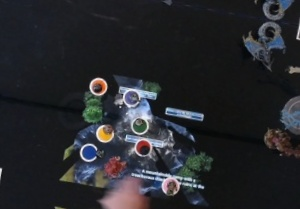blue: (77, 141, 101, 166)
green: (129, 115, 151, 137)
orange: (86, 73, 110, 98)
pink: (159, 175, 185, 197)
red: (132, 136, 154, 158)
violet: (119, 86, 144, 110)
yellow: (90, 121, 115, 142)
